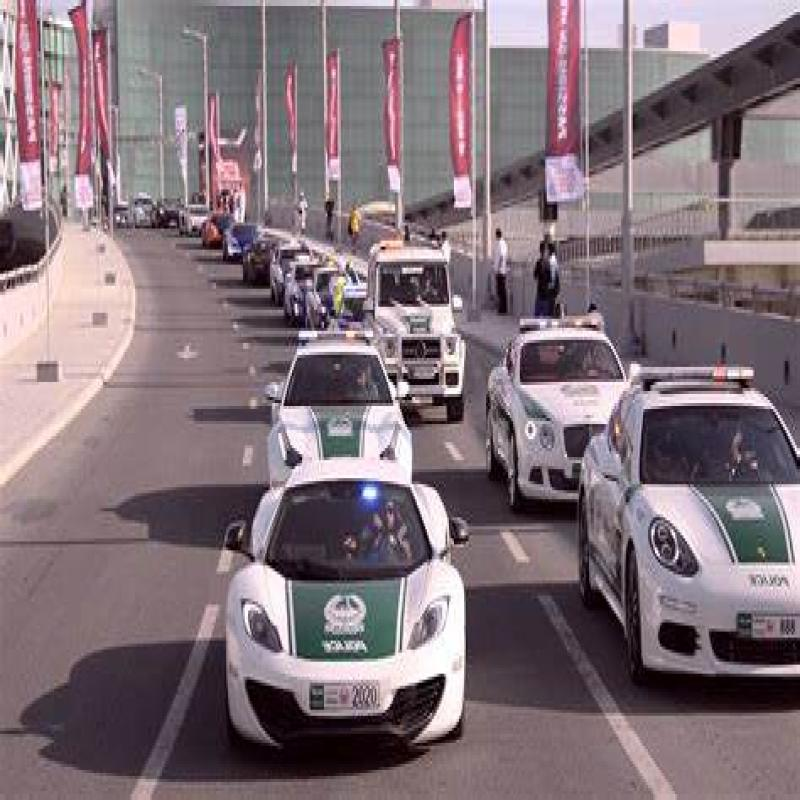car: (216, 437, 475, 783), (581, 319, 800, 718), (472, 289, 638, 514), (258, 309, 420, 495)
